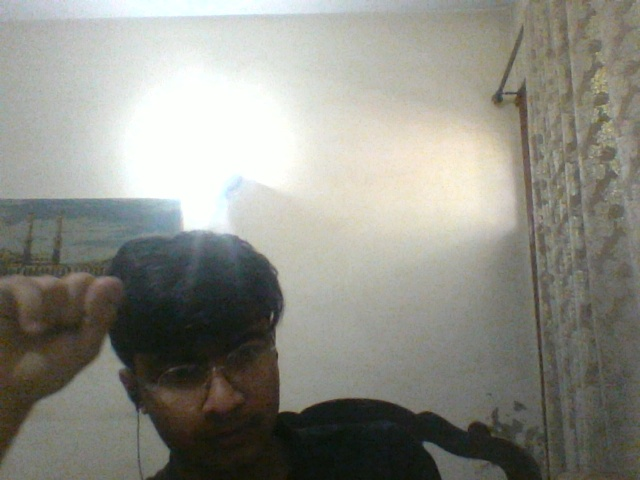neutral: (143, 324, 275, 458)
